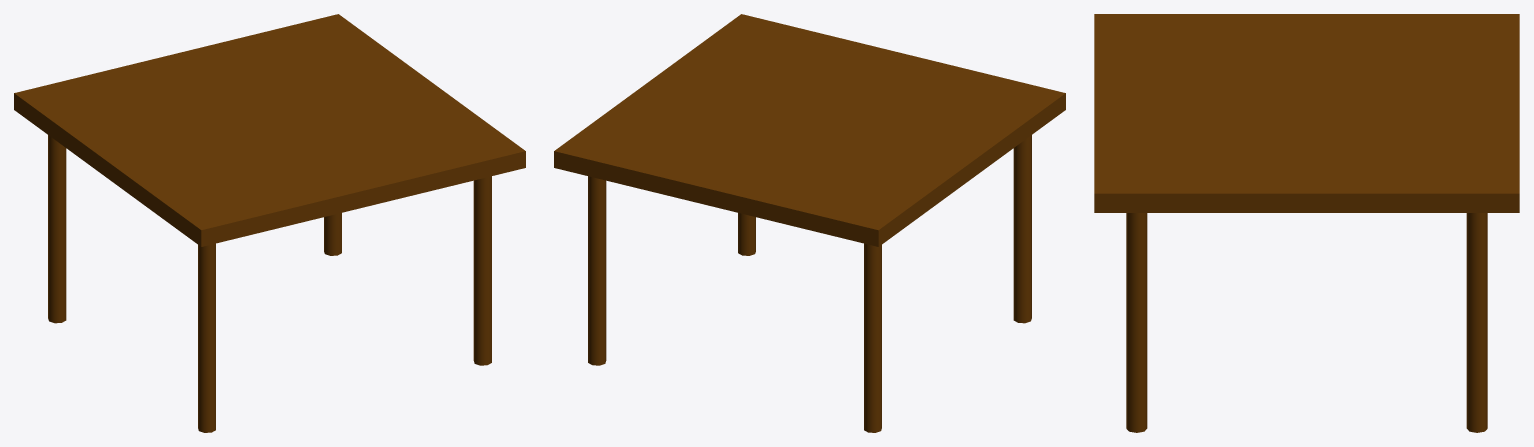
Rendered from table.glb.
3 views of the same model, side by side, from view 1: azimuth 30°, elevation 25°; view 2: azimuth 150°, elevation 25°; view 3: azimuth 270°, elevation 25° (orthographic). The views are drawn at different scales.
Visible parts, largest first — view 1: Plateau_9, Pied_12_4, Pied_2_12_6, Pied_1_12_2, Pied_3_12_8; view 2: Plateau_9, Pied_3_12_8, Pied_1_12_2, Pied_2_12_6, Pied_12_4; view 3: Plateau_9, Pied_12_4, Pied_3_12_8.
Boxes of the visible parts, left/top/right/bottom form: Plateau_9: left=14, top=14, right=525, bottom=246; Pied_12_4: left=473, top=176, right=491, bottom=365; Pied_2_12_6: left=48, top=135, right=66, bottom=323; Pied_1_12_2: left=198, top=243, right=215, bottom=432; Pied_3_12_8: left=324, top=213, right=341, bottom=255; Plateau_9: left=554, top=14, right=1065, bottom=246; Pied_3_12_8: left=588, top=176, right=606, bottom=365; Pied_1_12_2: left=1013, top=135, right=1031, bottom=323; Pied_2_12_6: left=864, top=243, right=881, bottom=432; Pied_12_4: left=738, top=213, right=755, bottom=255; Plateau_9: left=1094, top=14, right=1519, bottom=212; Pied_12_4: left=1126, top=213, right=1147, bottom=432; Pied_3_12_8: left=1466, top=213, right=1487, bottom=432.
Bounding box in the file's own units: 115 × 73.98 × 115.
